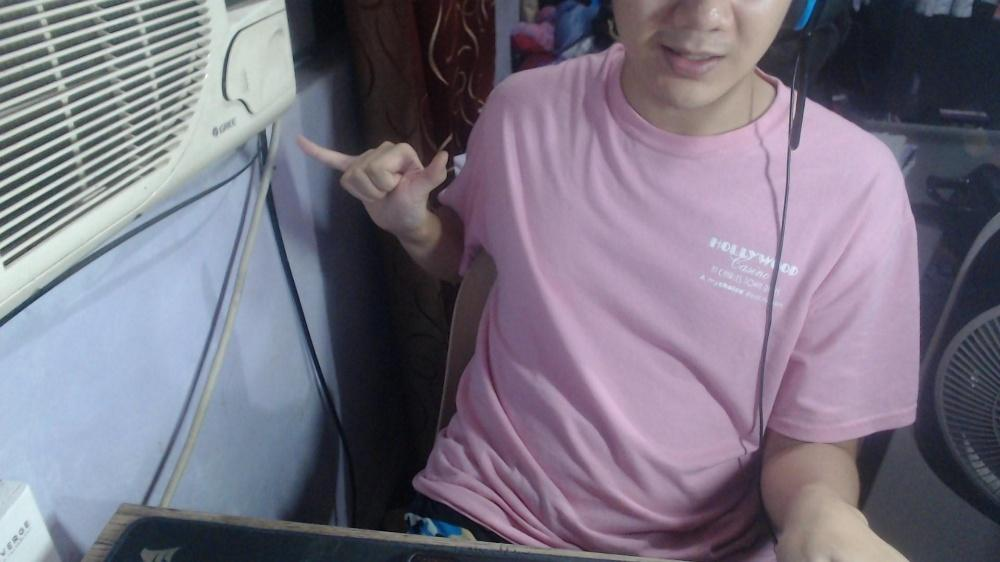y: (292, 128, 450, 233)
